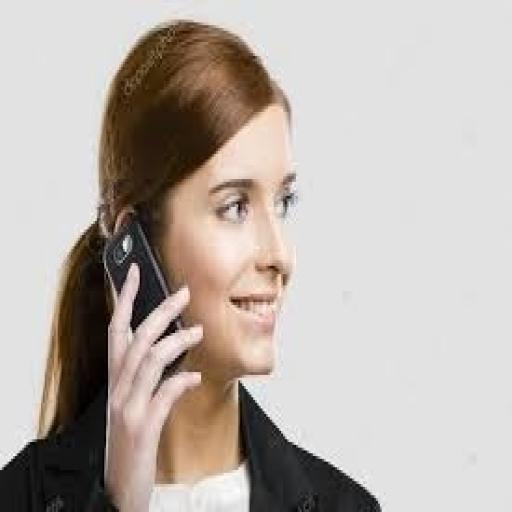calling: (0, 14, 387, 509)
